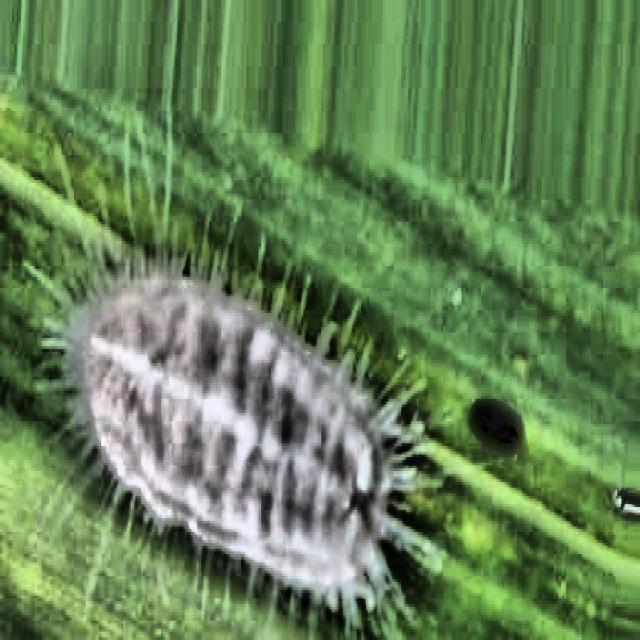Mealy-bug: (25, 123, 484, 640)
